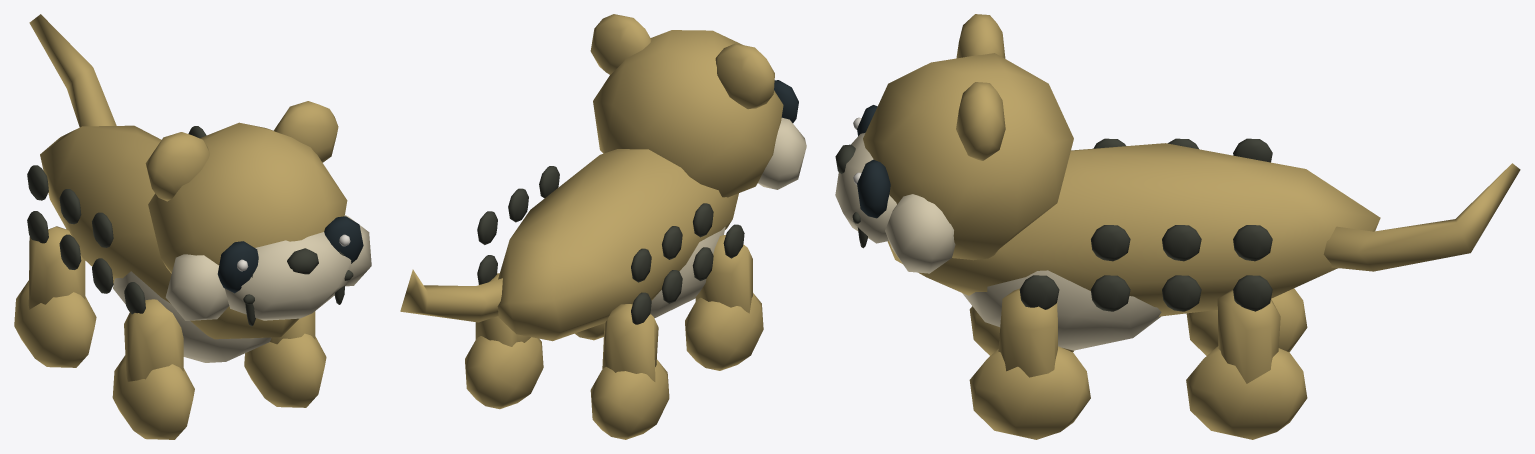
Rendered from org_cheetah.glb.
3 views of the same model, side by side, from view 1: azimuth 30°, elevation 25°; view 2: azimuth 150°, elevation 25°; view 3: azimuth 270°, elevation 25° (orthographic). The views are drawn at different scales.
Parts seen in each view (by area): view 1: Head, Body, Leg_FR, Leg_BR, Leg_FL, Tail, Eye_R, Eye_L; view 2: Body, Head, Leg_BR, Leg_FR, Leg_BL, Tail, Eye_R; view 3: Body, Head, Leg_BL, Leg_FL, Tail, Leg_BR, Eye_L, Leg_FR.
Boxes of the visible parts, x1,y1,x2,y2 form: Head: [145, 101, 371, 326]; Body: [27, 125, 298, 362]; Leg_FR: [112, 299, 194, 439]; Leg_BR: [14, 226, 96, 367]; Leg_FL: [244, 311, 326, 407]; Tail: [29, 14, 116, 127]; Eye_R: [217, 241, 258, 293]; Eye_L: [324, 216, 363, 263]; Body: [477, 149, 744, 341]; Head: [590, 14, 806, 197]; Leg_BR: [590, 304, 669, 439]; Leg_FR: [685, 235, 763, 370]; Leg_BL: [465, 273, 543, 409]; Tail: [400, 269, 502, 322]; Eye_R: [774, 80, 798, 122]; Body: [887, 138, 1380, 350]; Head: [835, 14, 1073, 273]; Leg_BL: [1186, 289, 1307, 439]; Leg_FL: [969, 288, 1090, 439]; Tail: [1323, 163, 1520, 271]; Leg_BR: [1186, 288, 1307, 355]; Eye_L: [853, 159, 890, 218]; Leg_FR: [969, 306, 1073, 355].
Bounding box in the file's own units: 0.4018 × 0.6184 × 1.1.
